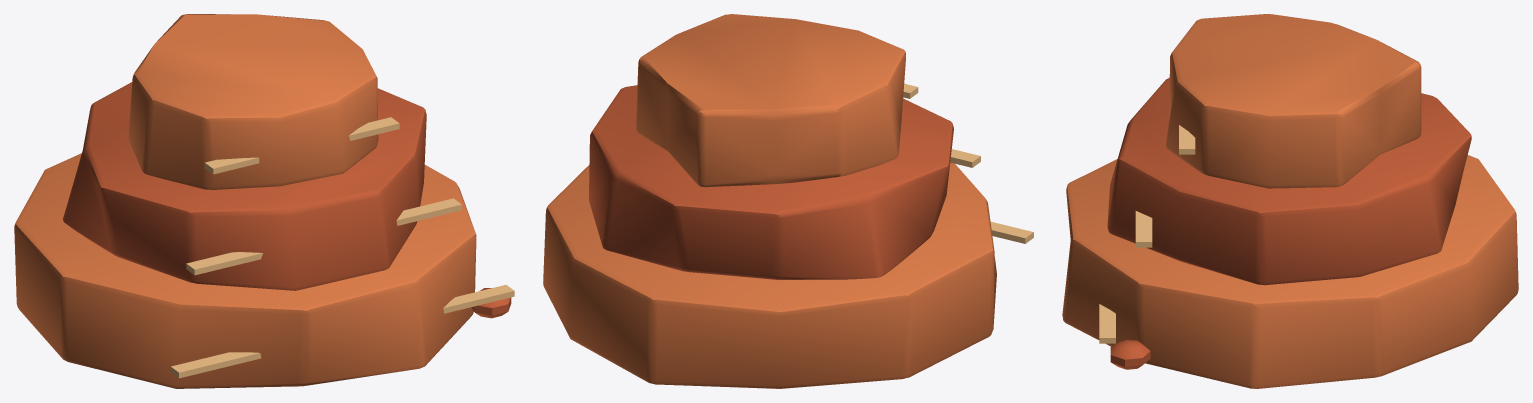
The model's file is LandMesa.fbx.
3 views of the same model, side by side, from view 1: azimuth 30°, elevation 25°; view 2: azimuth 150°, elevation 25°; view 3: azimuth 270°, elevation 25° (orthographic). The views are drawn at different scales.
Visible parts, largest first — view 1: LandMesa; view 2: LandMesa; view 3: LandMesa.
Boxes of the visible parts, x1,y1,x2,y2 form: LandMesa: (14,14,514,388); LandMesa: (543,14,1033,388); LandMesa: (1062,14,1518,388).
Bounding box in the file's own units: 1113 × 623 × 1101.
